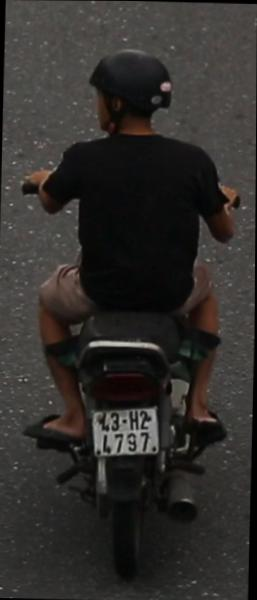LP: (90, 400, 163, 464)
helmet: (86, 44, 177, 145)
